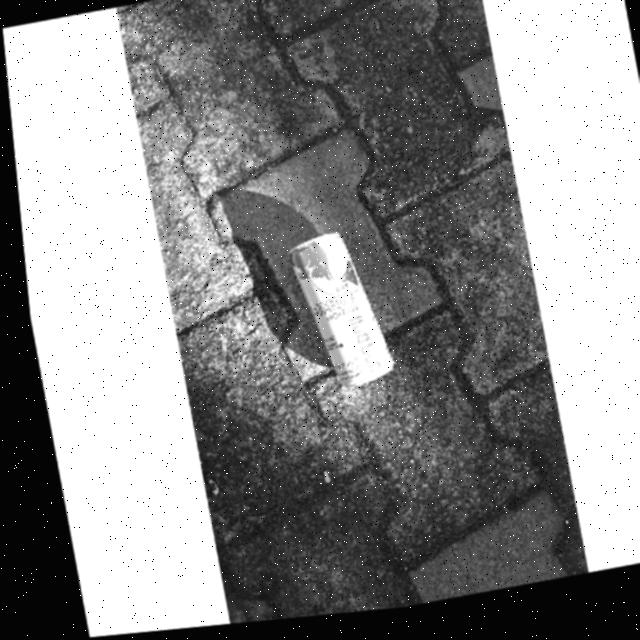Redbull Summer Edition: (271, 231, 390, 404)
